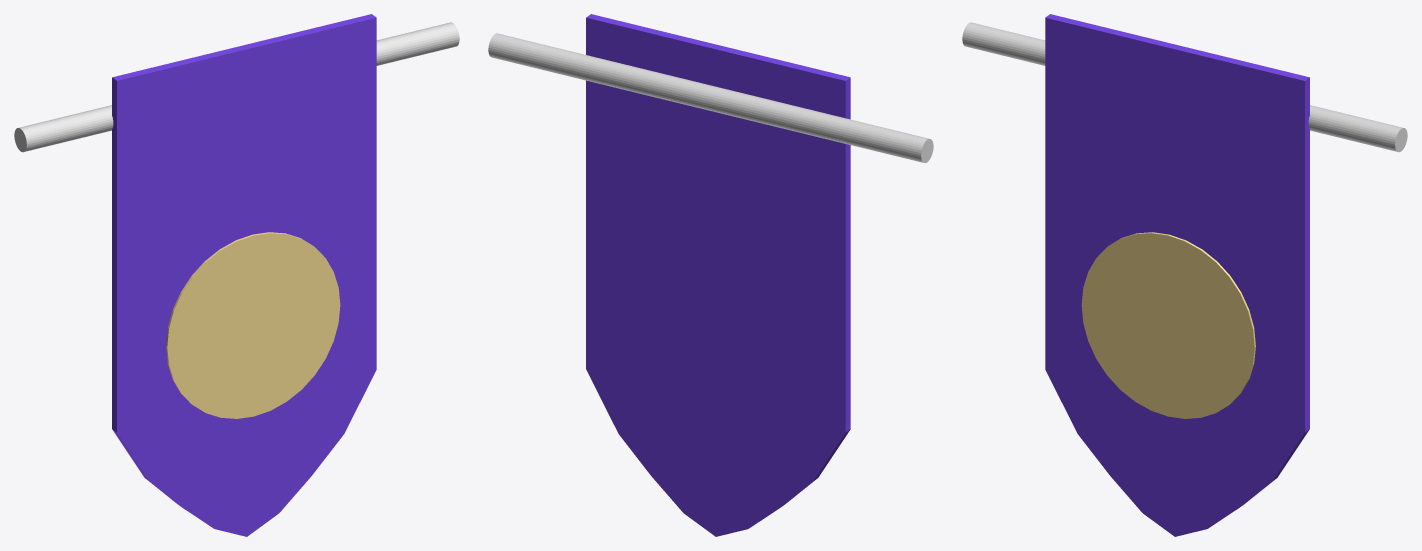
File: Banner.fbx
The picture shows the model from 3 angles, left to right: view 1: azimuth 30°, elevation 25°; view 2: azimuth 150°, elevation 25°; view 3: azimuth 330°, elevation 25°; orthographic projection.
Visible parts, largest first — view 1: Banner; view 2: Banner; view 3: Banner.
Boxes of the visible parts, x1,y1,x2,y2 form: Banner: (14, 14, 459, 536); Banner: (488, 14, 933, 536); Banner: (962, 14, 1407, 536).
Size of the model in its own units: 2 by 2.15 by 0.1848.
